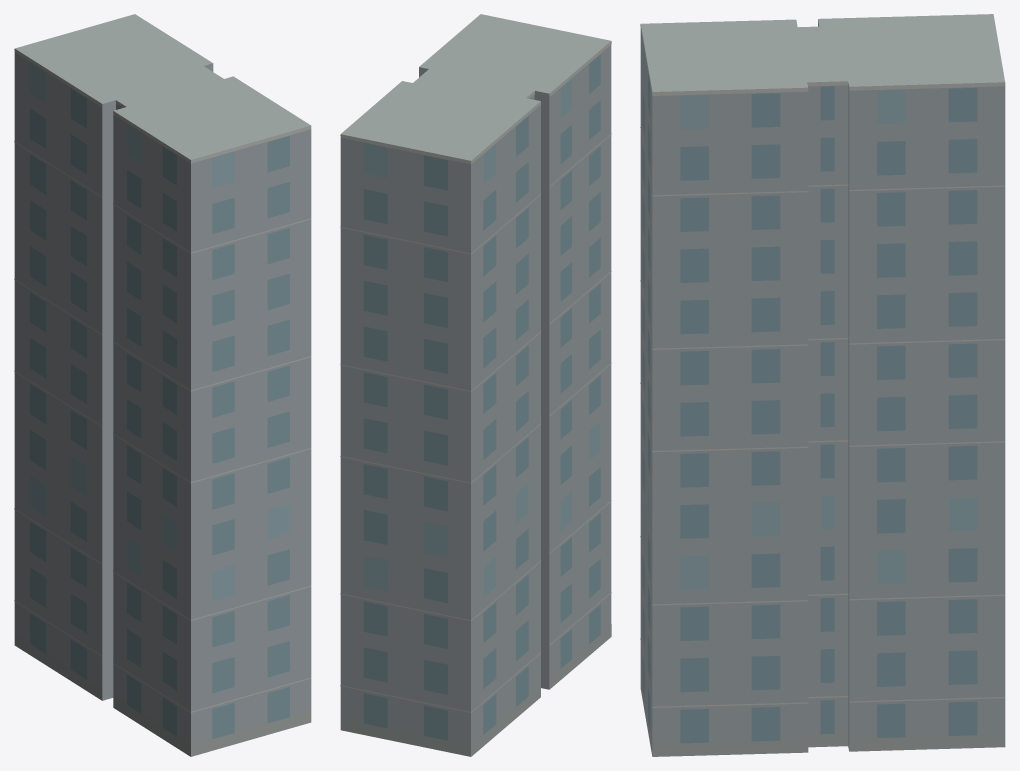
The model's file is survey-upis-32744880.glb.
The picture shows the model from 3 angles, left to right: view 1: azimuth 30°, elevation 25°; view 2: azimuth 150°, elevation 25°; view 3: azimuth 270°, elevation 25°; orthographic projection. The views are drawn at different scales.
Visible parts, largest first — view 1: survey-upis-32744880.tmp; view 2: survey-upis-32744880.tmp; view 3: survey-upis-32744880.tmp.
Part boxes in pixels (x1,y1,x2,y2): survey-upis-32744880.tmp: (14, 14, 311, 756); survey-upis-32744880.tmp: (340, 14, 611, 756); survey-upis-32744880.tmp: (640, 14, 1005, 756).
Size of the model in its own units: 10.19 by 40.4 by 20.1.
